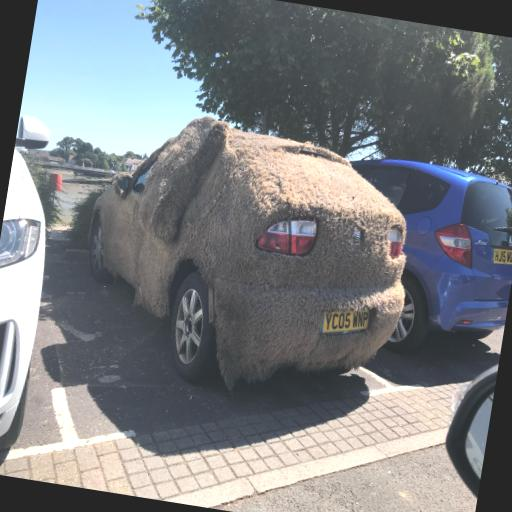numberplates: (321, 311, 369, 333), (493, 249, 511, 264)
